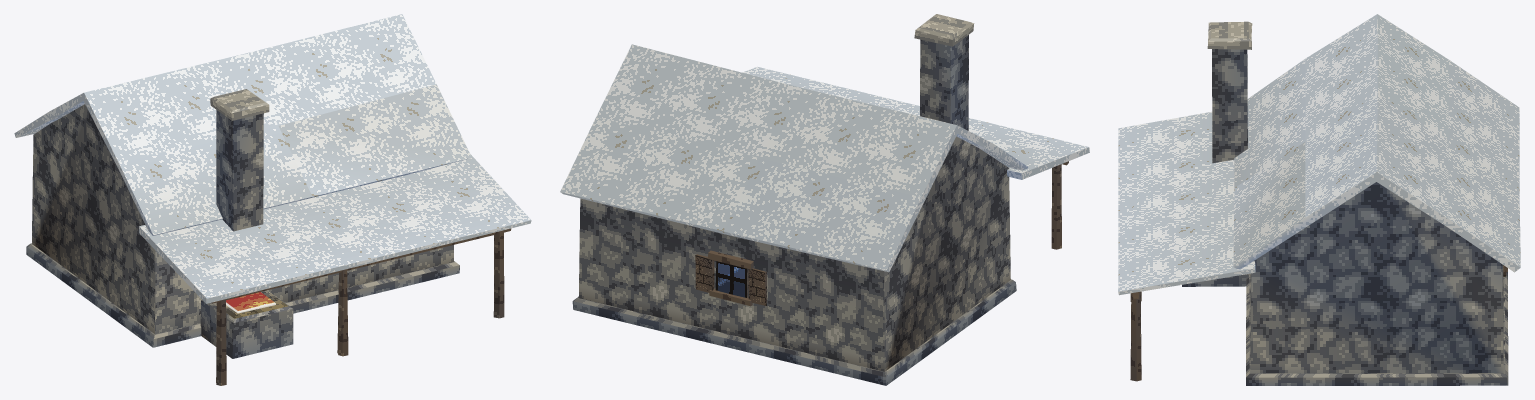
Rendered from vlg.smithy__doorway.glb.
3 renders of one model, left to right at view 1: azimuth 30°, elevation 25°; view 2: azimuth 150°, elevation 25°; view 3: azimuth 270°, elevation 25°, orthographic. The views are drawn at different scales.
Visible parts, largest first — view 1: kit_roof, kit_walls, kit_stonework, kit_frame, kit_fittings; view 2: kit_roof, kit_walls, kit_stonework, kit_fittings, kit_frame; view 3: kit_roof, kit_walls, kit_stonework, kit_frame.
Part boxes in pixels (x1,y1,x2,y2): kit_roof: [14, 14, 531, 303]; kit_walls: [31, 104, 453, 334]; kit_stonework: [26, 89, 459, 358]; kit_frame: [211, 228, 511, 385]; kit_fittings: [226, 292, 275, 313]; kit_roof: [560, 44, 1089, 272]; kit_walls: [578, 136, 1010, 371]; kit_stonework: [572, 14, 1016, 385]; kit_fittings: [695, 250, 766, 306]; kit_frame: [1051, 161, 1068, 249]; kit_roof: [1118, 14, 1520, 295]; kit_walls: [1250, 182, 1503, 373]; kit_stonework: [1182, 21, 1508, 385]; kit_frame: [1130, 291, 1141, 381].
Bounding box in the file's own units: 7.63 × 5.26 × 7.94.
8 materials, 8 textured.
